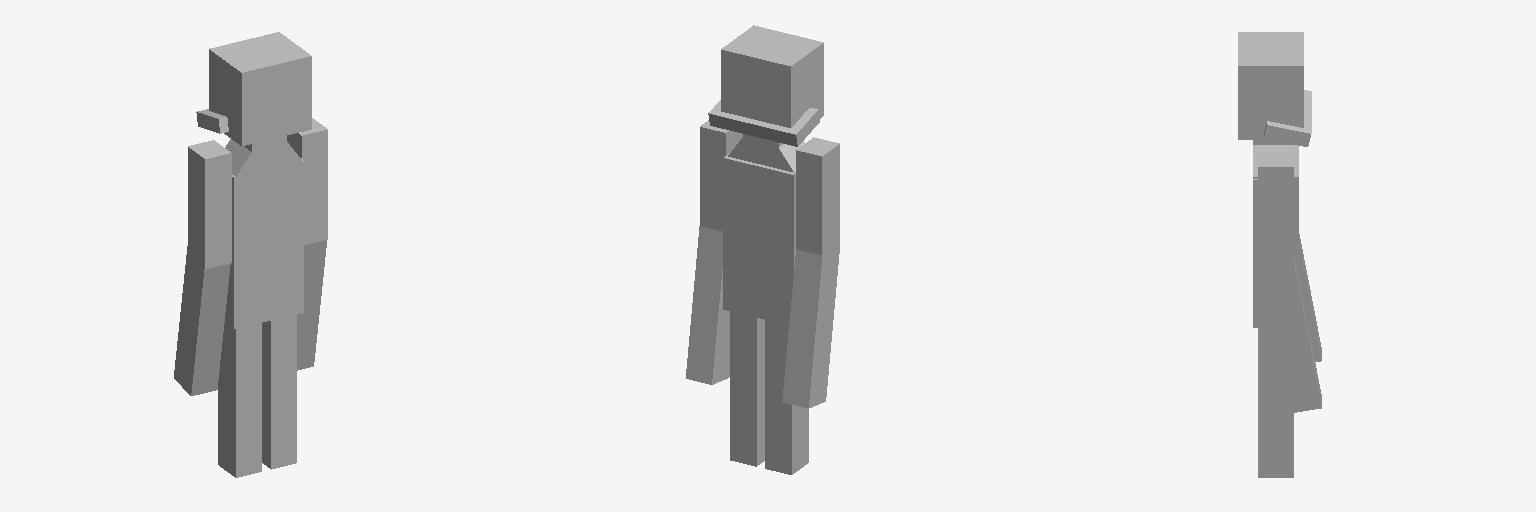
Rendered from cursed_being_-_converted.obj.
3 renders of one model, left to right at view 1: azimuth 30°, elevation 25°; view 2: azimuth 150°, elevation 25°; view 3: azimuth 270°, elevation 25°, orthographic.
Parts seen in each view (by area): view 1: cube, lower back, right arm bottom, upper back, right arm top, left leg bottom, right leg bottom, left arm top, Left arm bottom, left leg top, right leg top; view 2: cube, right arm bottom, lower back, upper back, Left arm bottom, right arm top, right leg bottom, left leg bottom, left arm top, right leg top, left leg top; view 3: cube, Left arm bottom, left arm top, right leg bottom, right leg top, right arm bottom, lower back, upper back.
Boxes of the visible parts, x1,y1,x2,y2 form: cube: [196, 32, 311, 180]; lower back: [225, 226, 303, 328]; right arm bottom: [174, 244, 230, 395]; upper back: [232, 158, 303, 250]; right arm top: [188, 140, 231, 269]; left leg bottom: [218, 364, 261, 477]; right leg bottom: [262, 358, 296, 469]; left arm top: [287, 118, 327, 244]; Left arm bottom: [297, 240, 326, 370]; left leg top: [219, 323, 261, 385]; right leg top: [262, 314, 296, 371]; cube: [708, 25, 823, 172]; right arm bottom: [782, 249, 838, 408]; lower back: [723, 223, 795, 324]; upper back: [723, 153, 795, 248]; Left arm bottom: [686, 226, 729, 384]; right arm top: [796, 137, 839, 266]; right leg bottom: [730, 355, 764, 466]; left leg bottom: [765, 367, 808, 474]; left arm top: [700, 120, 742, 230]; right leg top: [730, 311, 764, 360]; left leg top: [765, 320, 788, 381]; cube: [1238, 32, 1311, 179]; Left arm bottom: [1260, 255, 1321, 413]; left arm top: [1258, 154, 1293, 276]; right leg bottom: [1258, 377, 1293, 477]; right leg top: [1258, 328, 1280, 385]; right arm bottom: [1299, 234, 1321, 361]; lower back: [1253, 241, 1298, 327]; upper back: [1253, 145, 1298, 249].
Size of the model in its own units: 1.75 by 5.62 by 1.03.